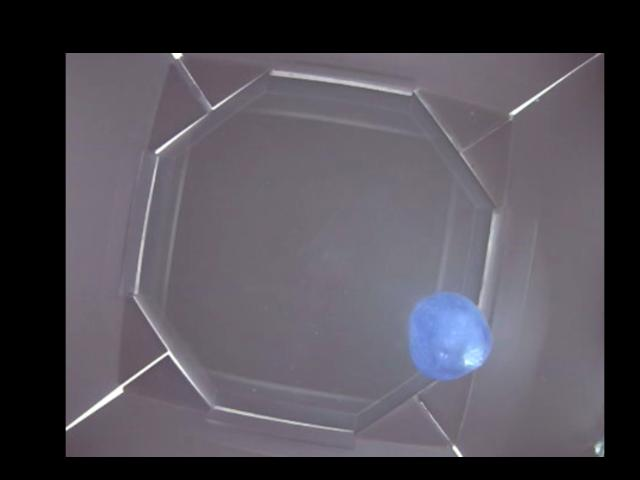Potato: (409, 291, 499, 382)
